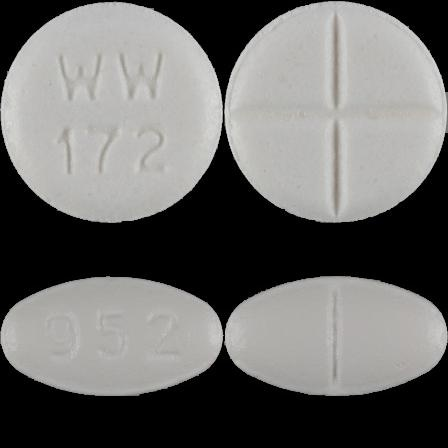54868-3724: (0, 0, 224, 224)
